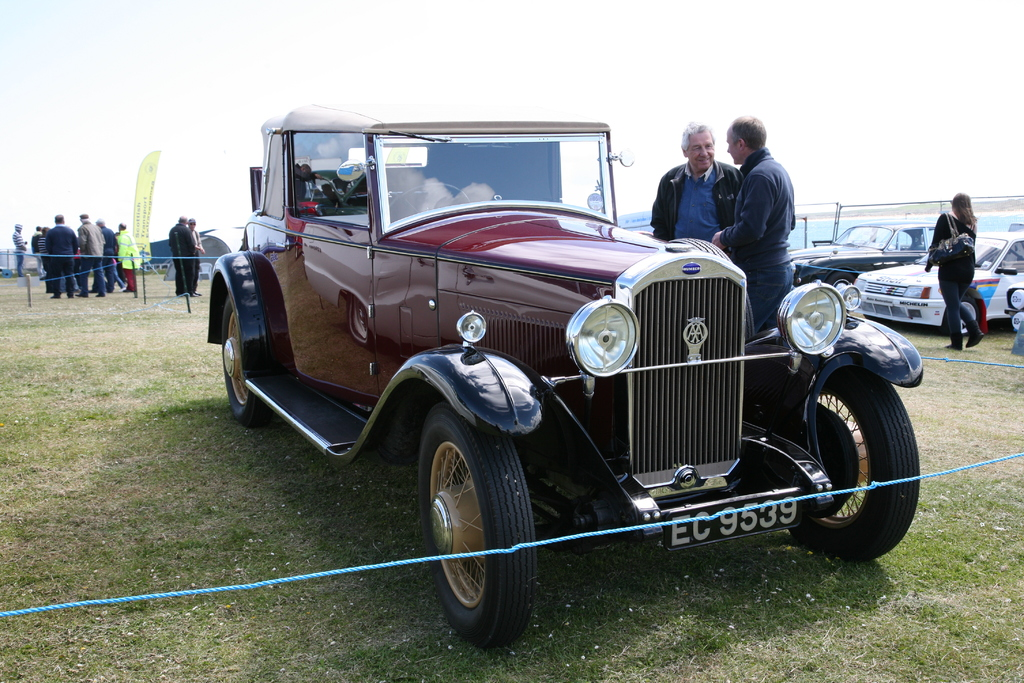Car: (201, 91, 918, 634), (849, 230, 1023, 330), (787, 217, 938, 292)
